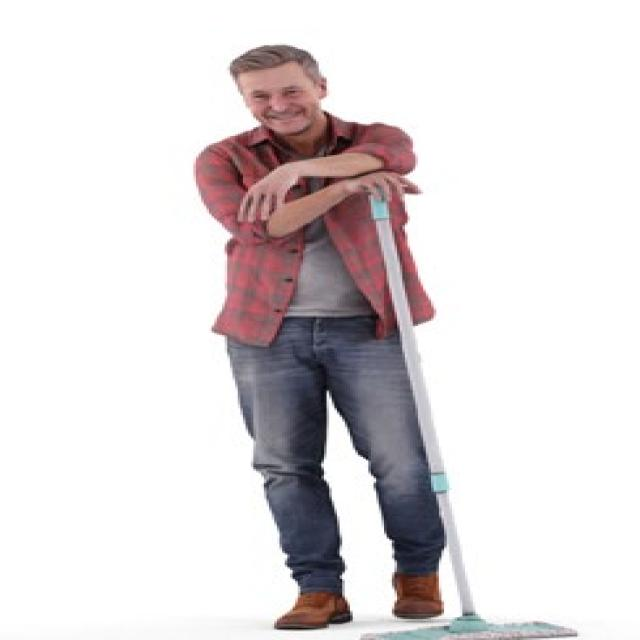standing: (195, 42, 450, 630)
